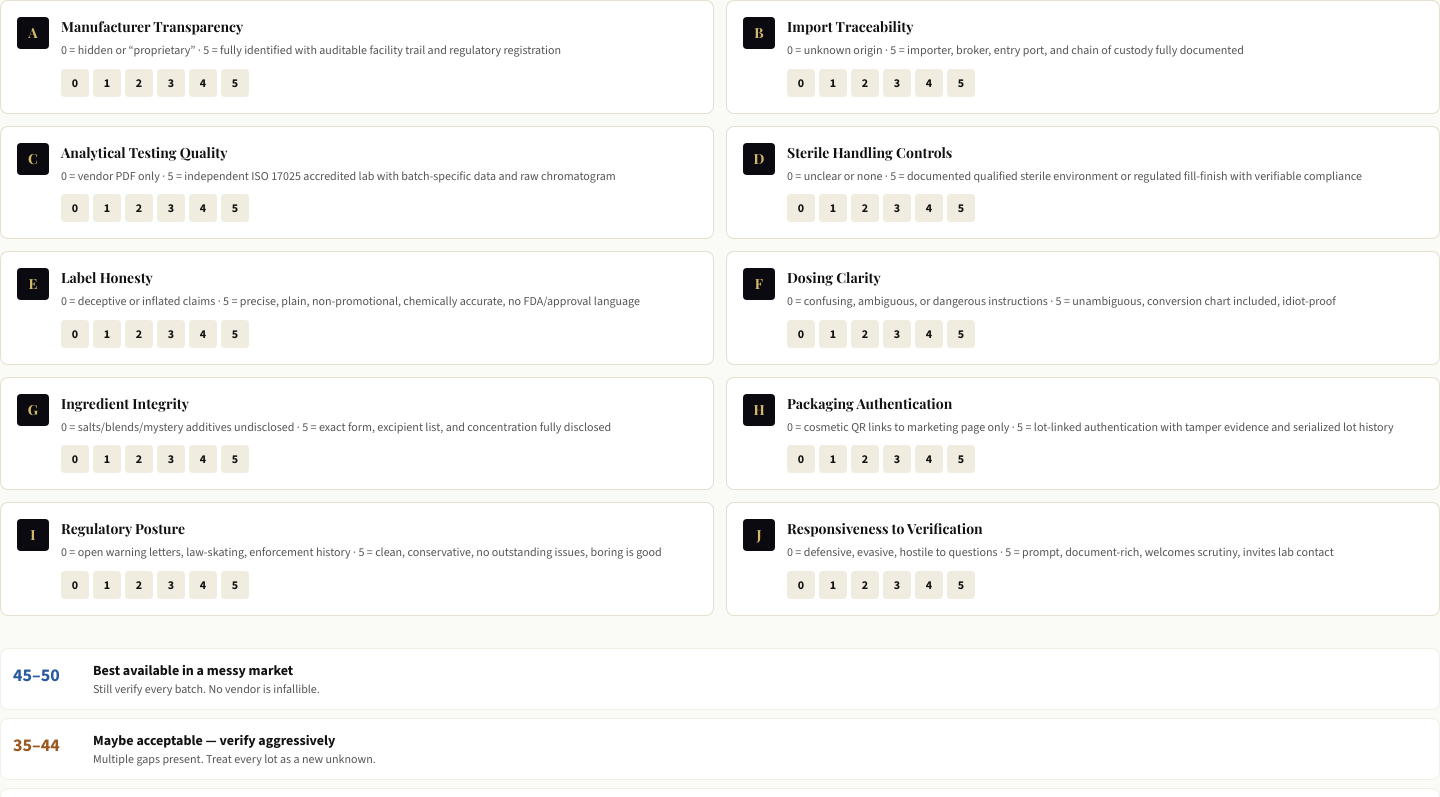
Scenario: PeptideWatchScorecard › adds up the scores and counts the categories scored
The image size is (1440, 797).
Click the button "5" below "Manufacturer Transparency": click(235, 82) 221,68 -> 249,96
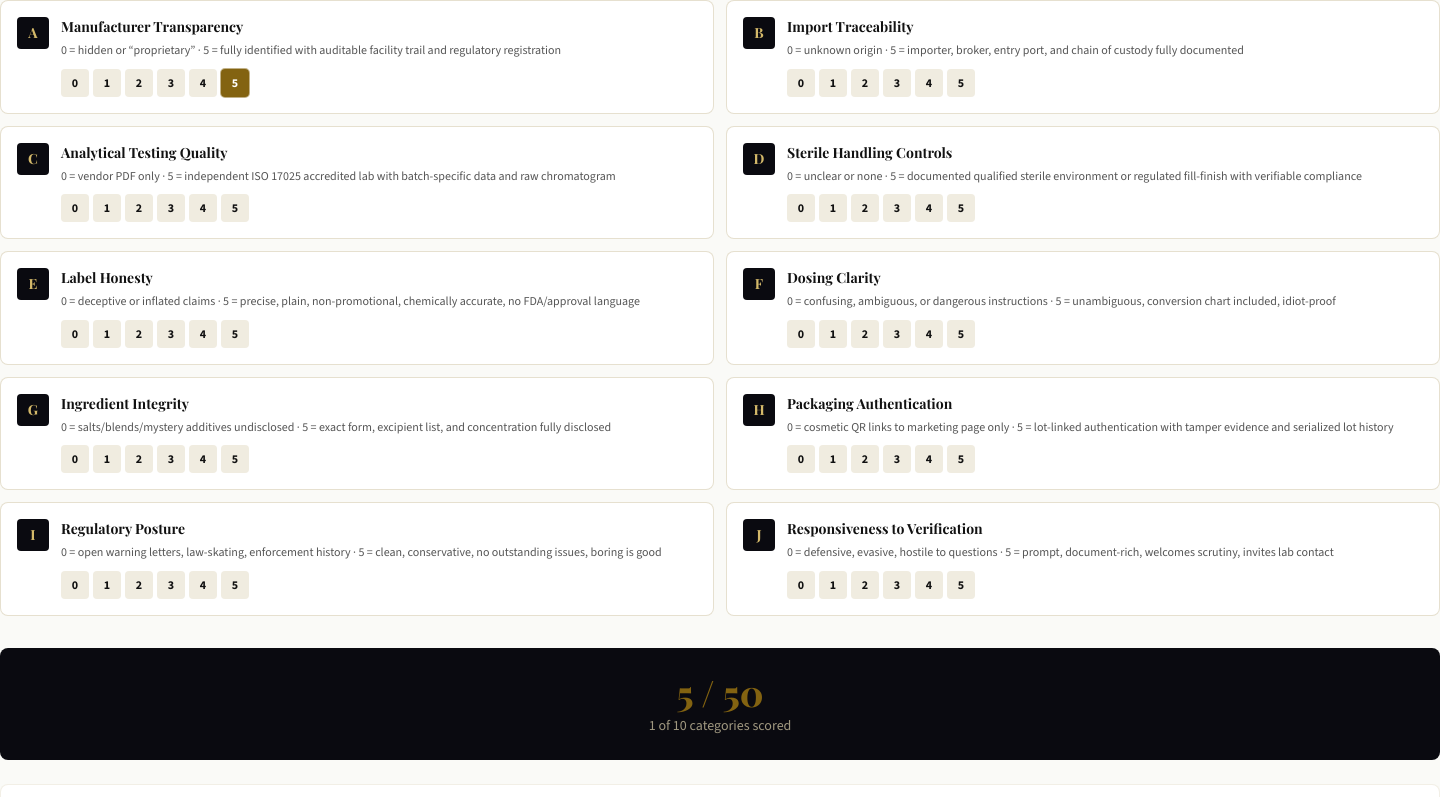
Click the button "3" below "Import Traceability": click(897, 82) 883,68 -> 911,96
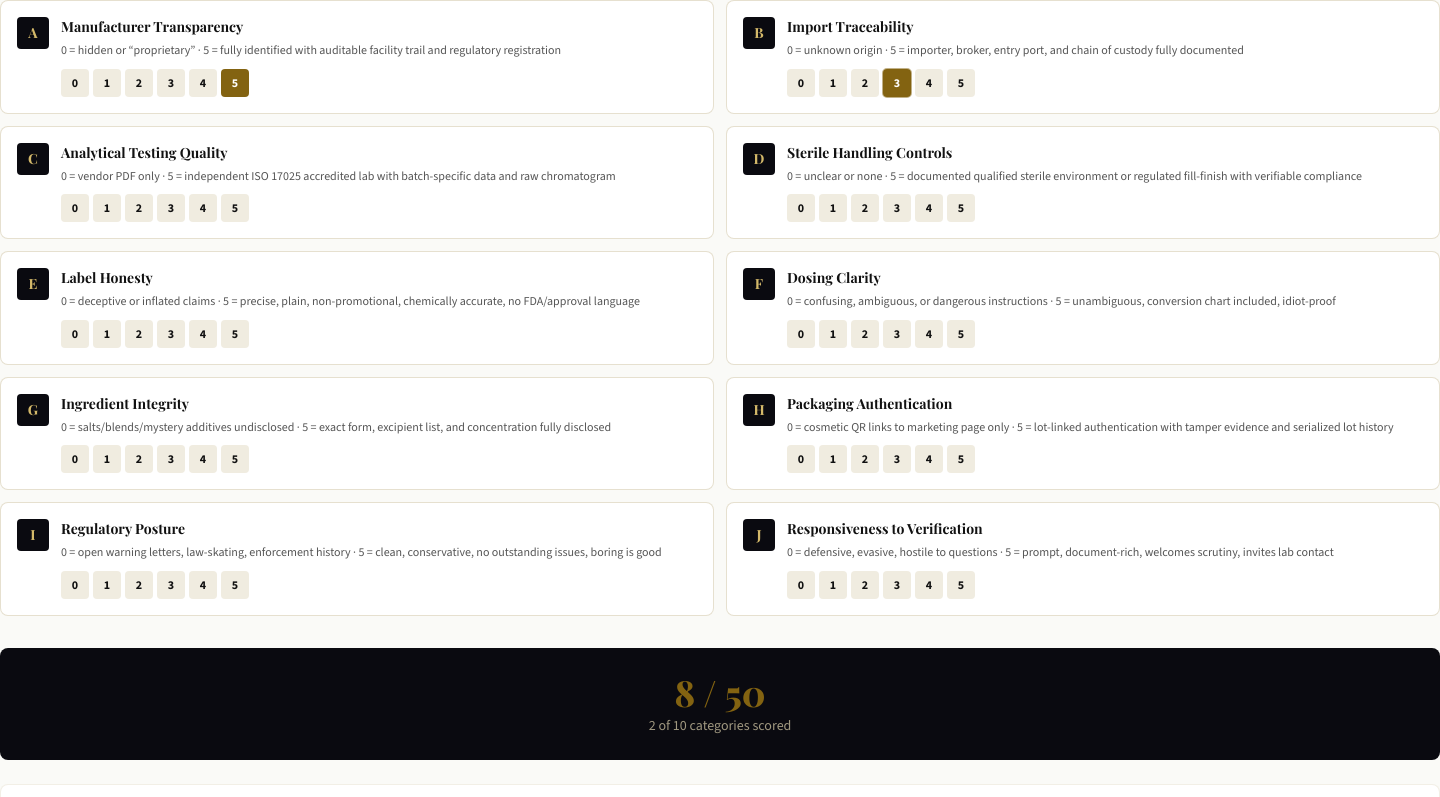
Expected: the text "8 / 50" is shown, 674,668 -> 766,716
Click the button "1" below "Manufacturer Transparency": click(107, 82) 93,68 -> 121,96
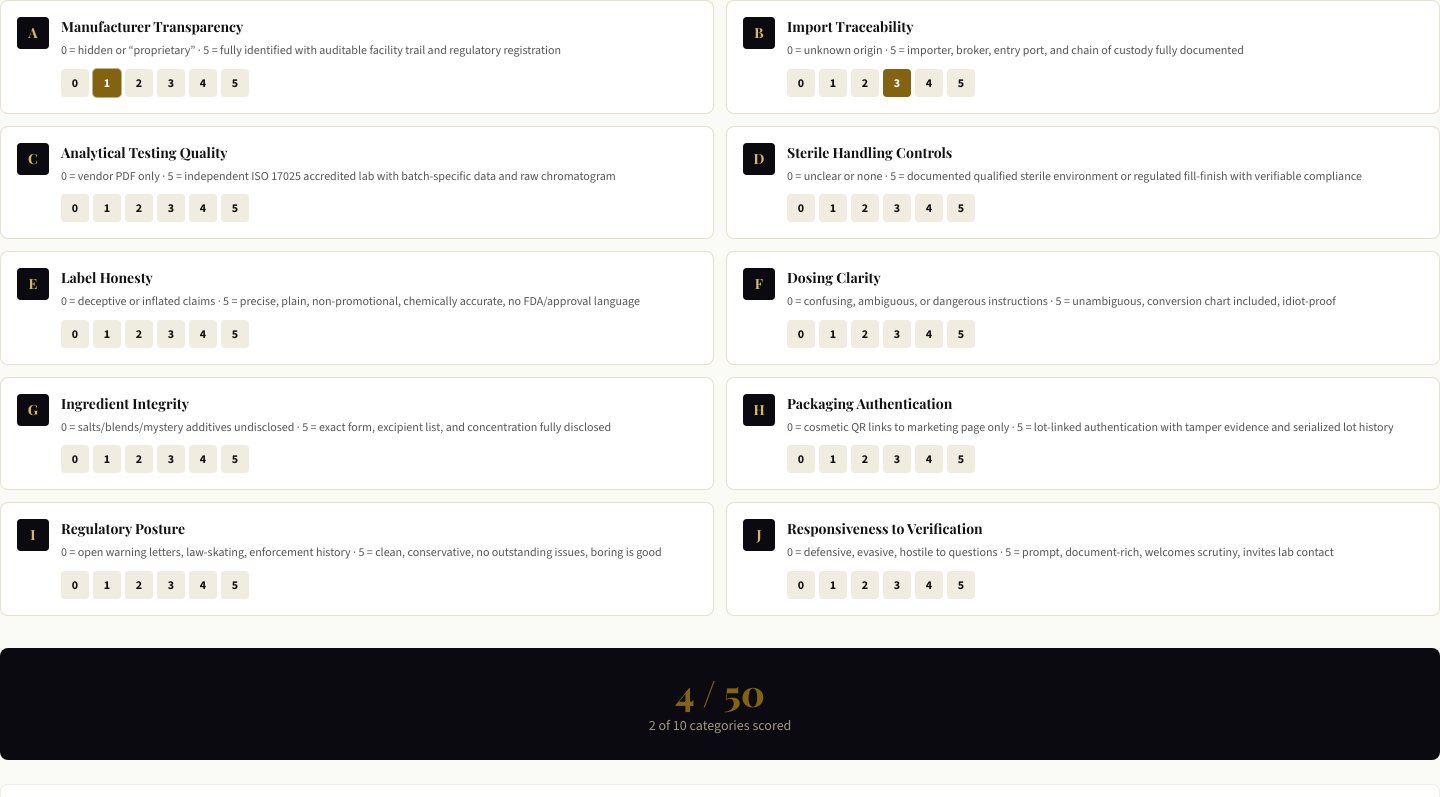
Expected: the text "4 / 50" is shown, 675,668 -> 765,716
